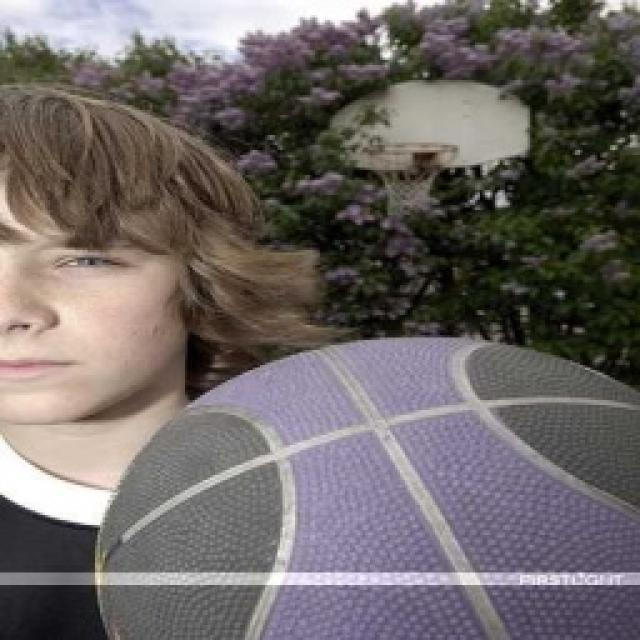rim: (93, 330, 640, 640)
